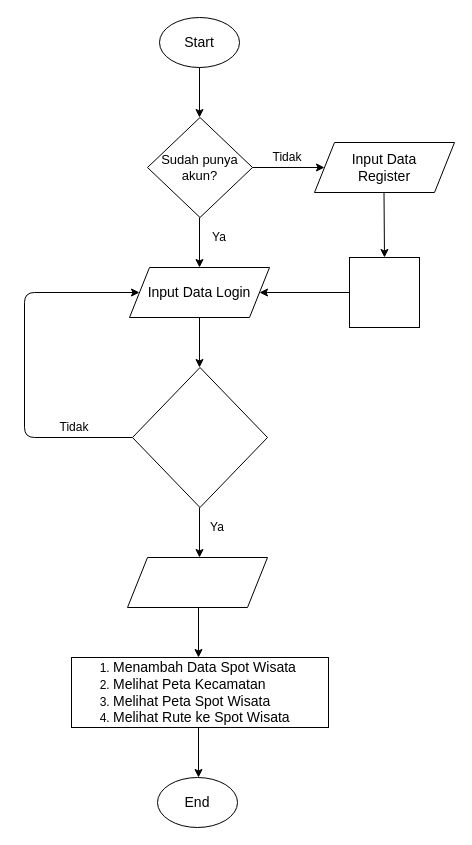
Some shapes in this 472 by 845 pixel diagram are drawn without their labels. The shapes that lost their labels are listed below. From the top down, each one's box as (x1, y1, x2, y2) in pixels, then its label:
(348, 256, 420, 328): Proses Register
(132, 366, 268, 508): Username dan Password Benar
(126, 556, 268, 608): Halaman Guest
